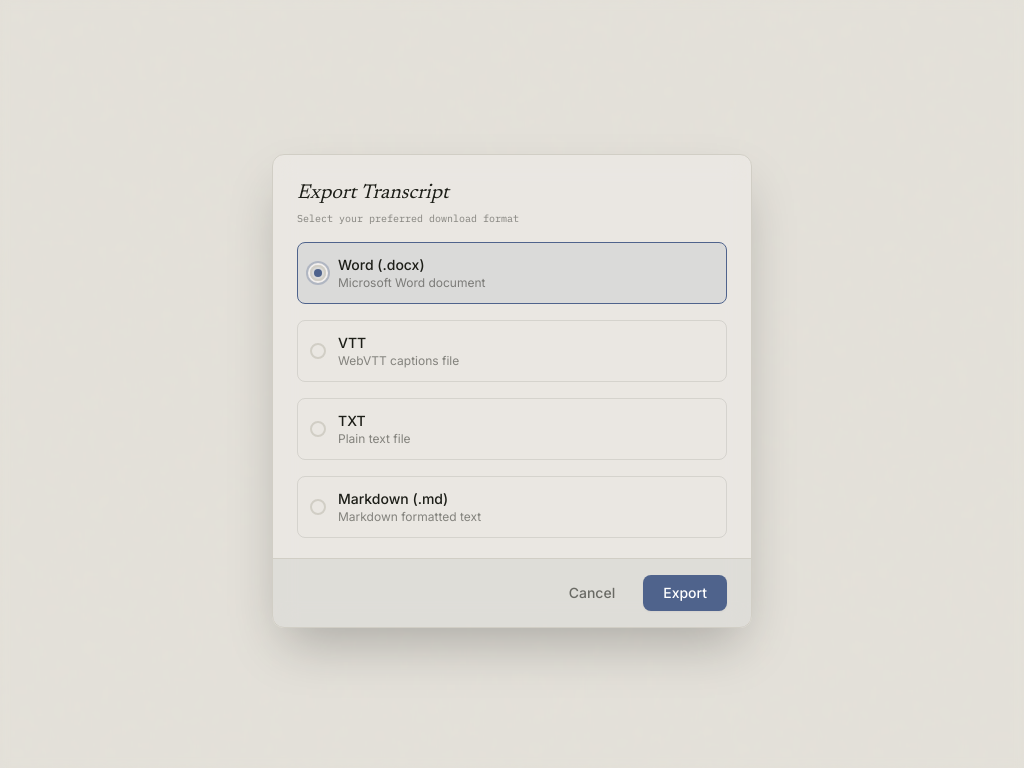
Scenario: ExportModal - Phase 7 UI regressions › uses one alert and leaves the status region empty when export fails
Click the button "Export" at point(685, 593), box [643, 575, 727, 611]
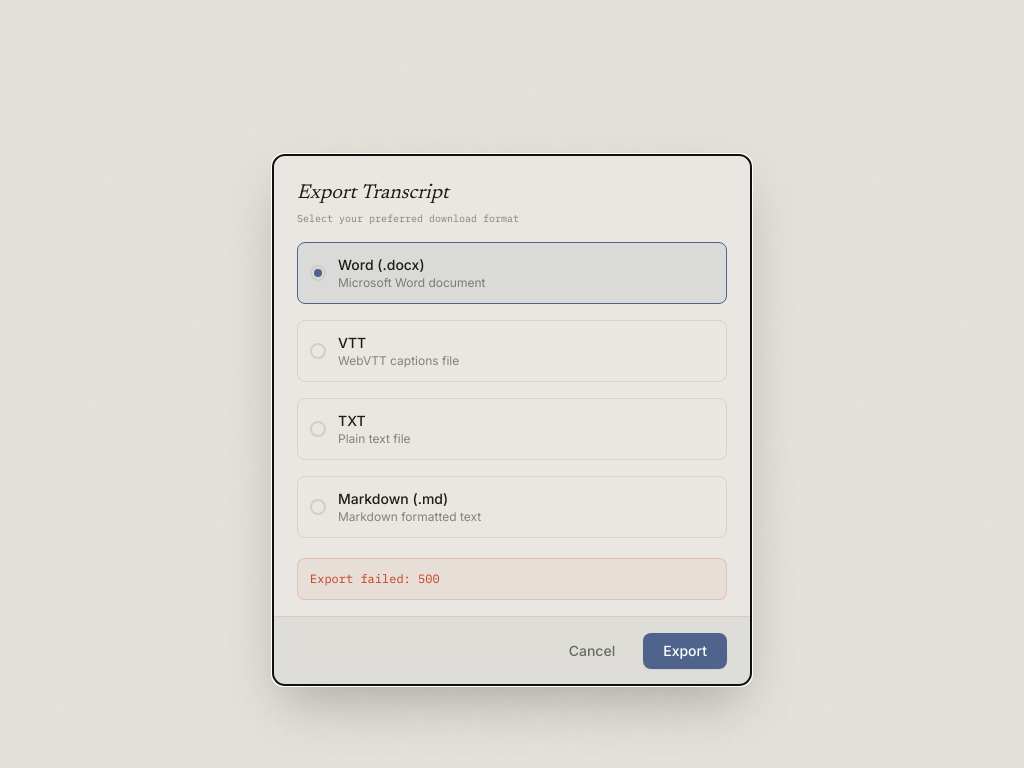
Result: the message reads "Export failed: 500" at [310, 571, 440, 586]
Result: the number of messages is 1 at [297, 558, 727, 600]
